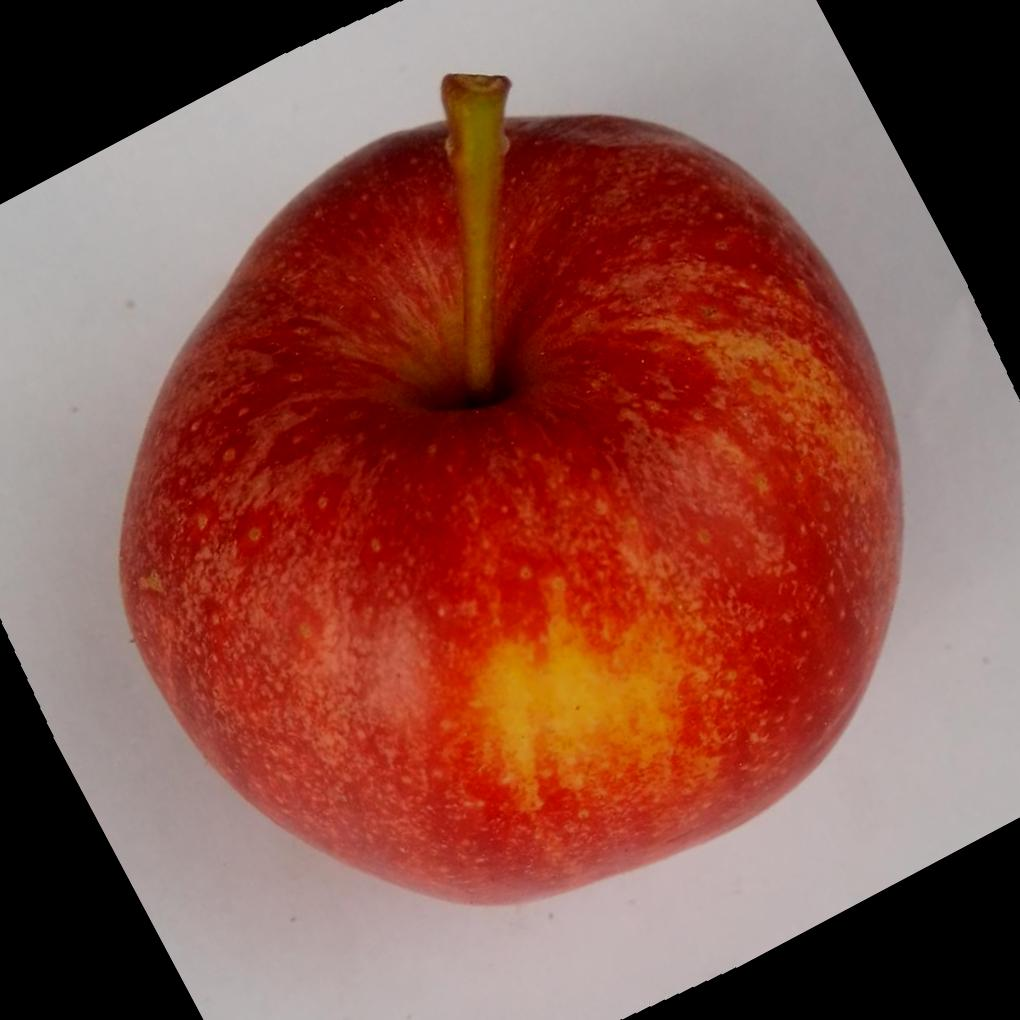FreshGuava: (117, 71, 908, 911)
